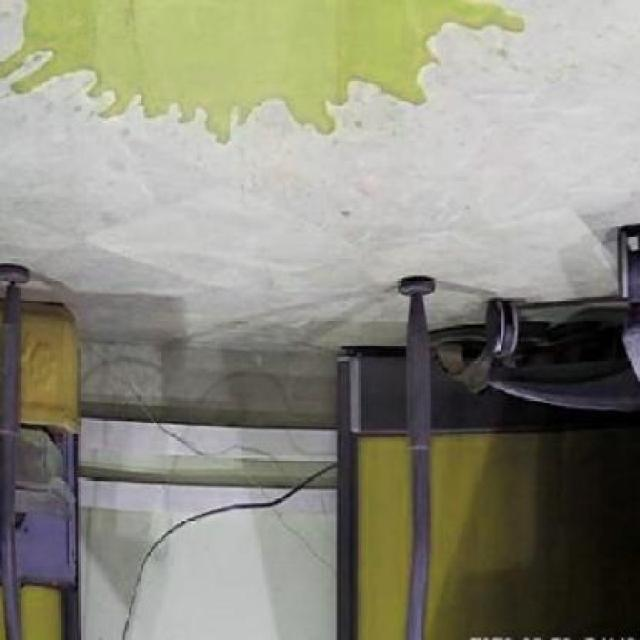spillage: (0, 0, 533, 142)
